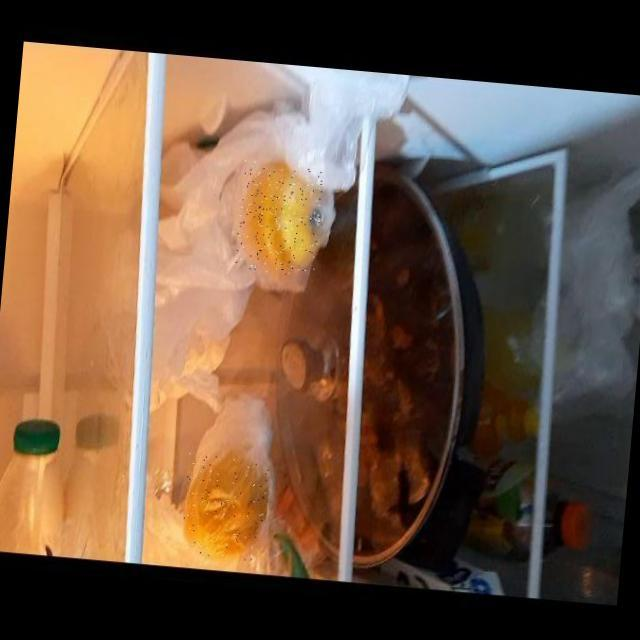Limón: (234, 159, 324, 276), (180, 452, 271, 563)
